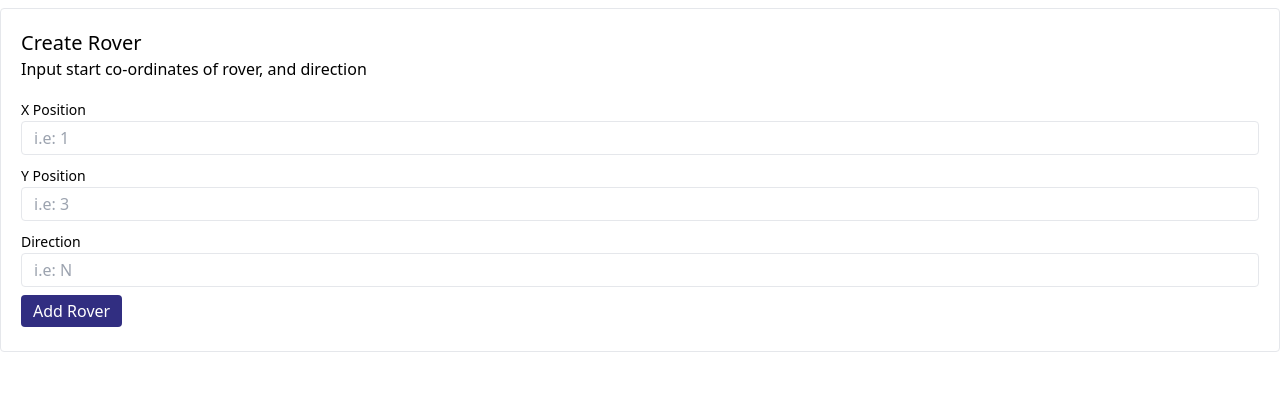
Test: <RoverForm /> › shows an error message when no Y position has been provided and "Add Rover" is clicked
In the number field labelled "X Position": (640, 138) [21,121,1259,155], type "3"
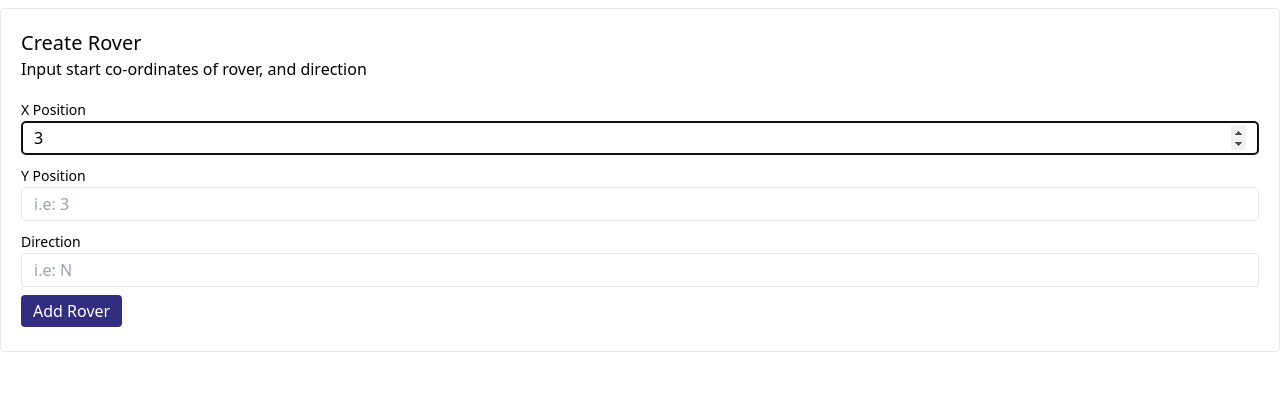
In the field labelled "Direction": (640, 270) [21,253,1259,287], type "E"
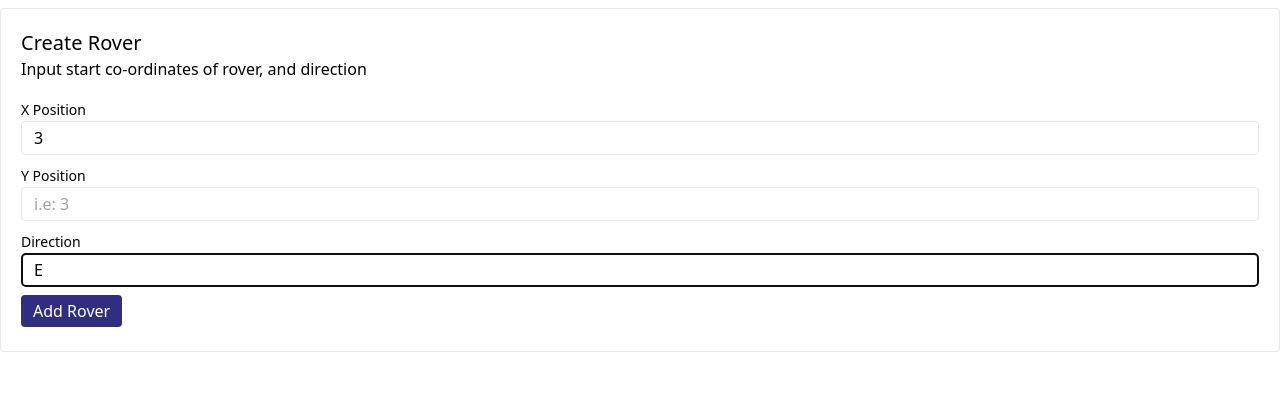
Click the button "Add Rover": (72, 311) [21,295,122,327]
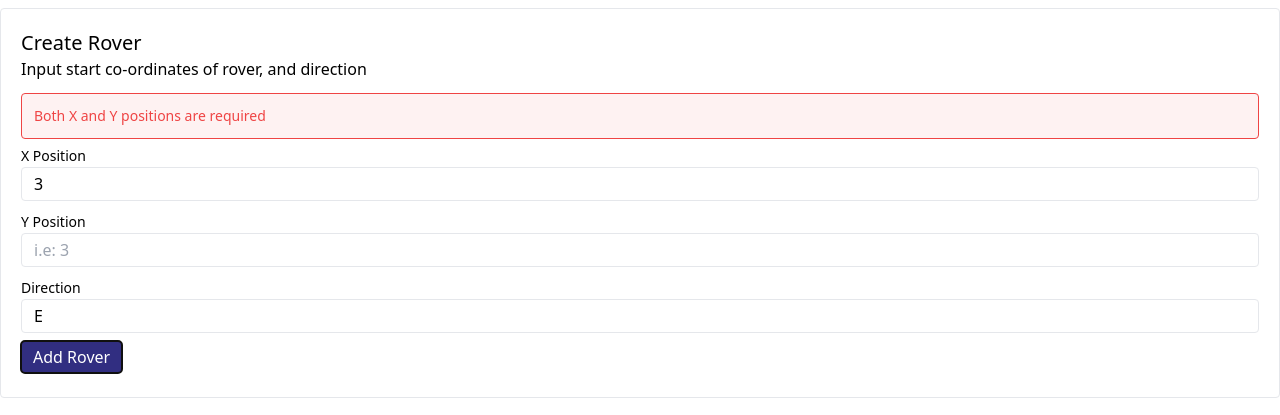
Expected: the message reads "Both X and Y positions are required", [34,106,266,125]
